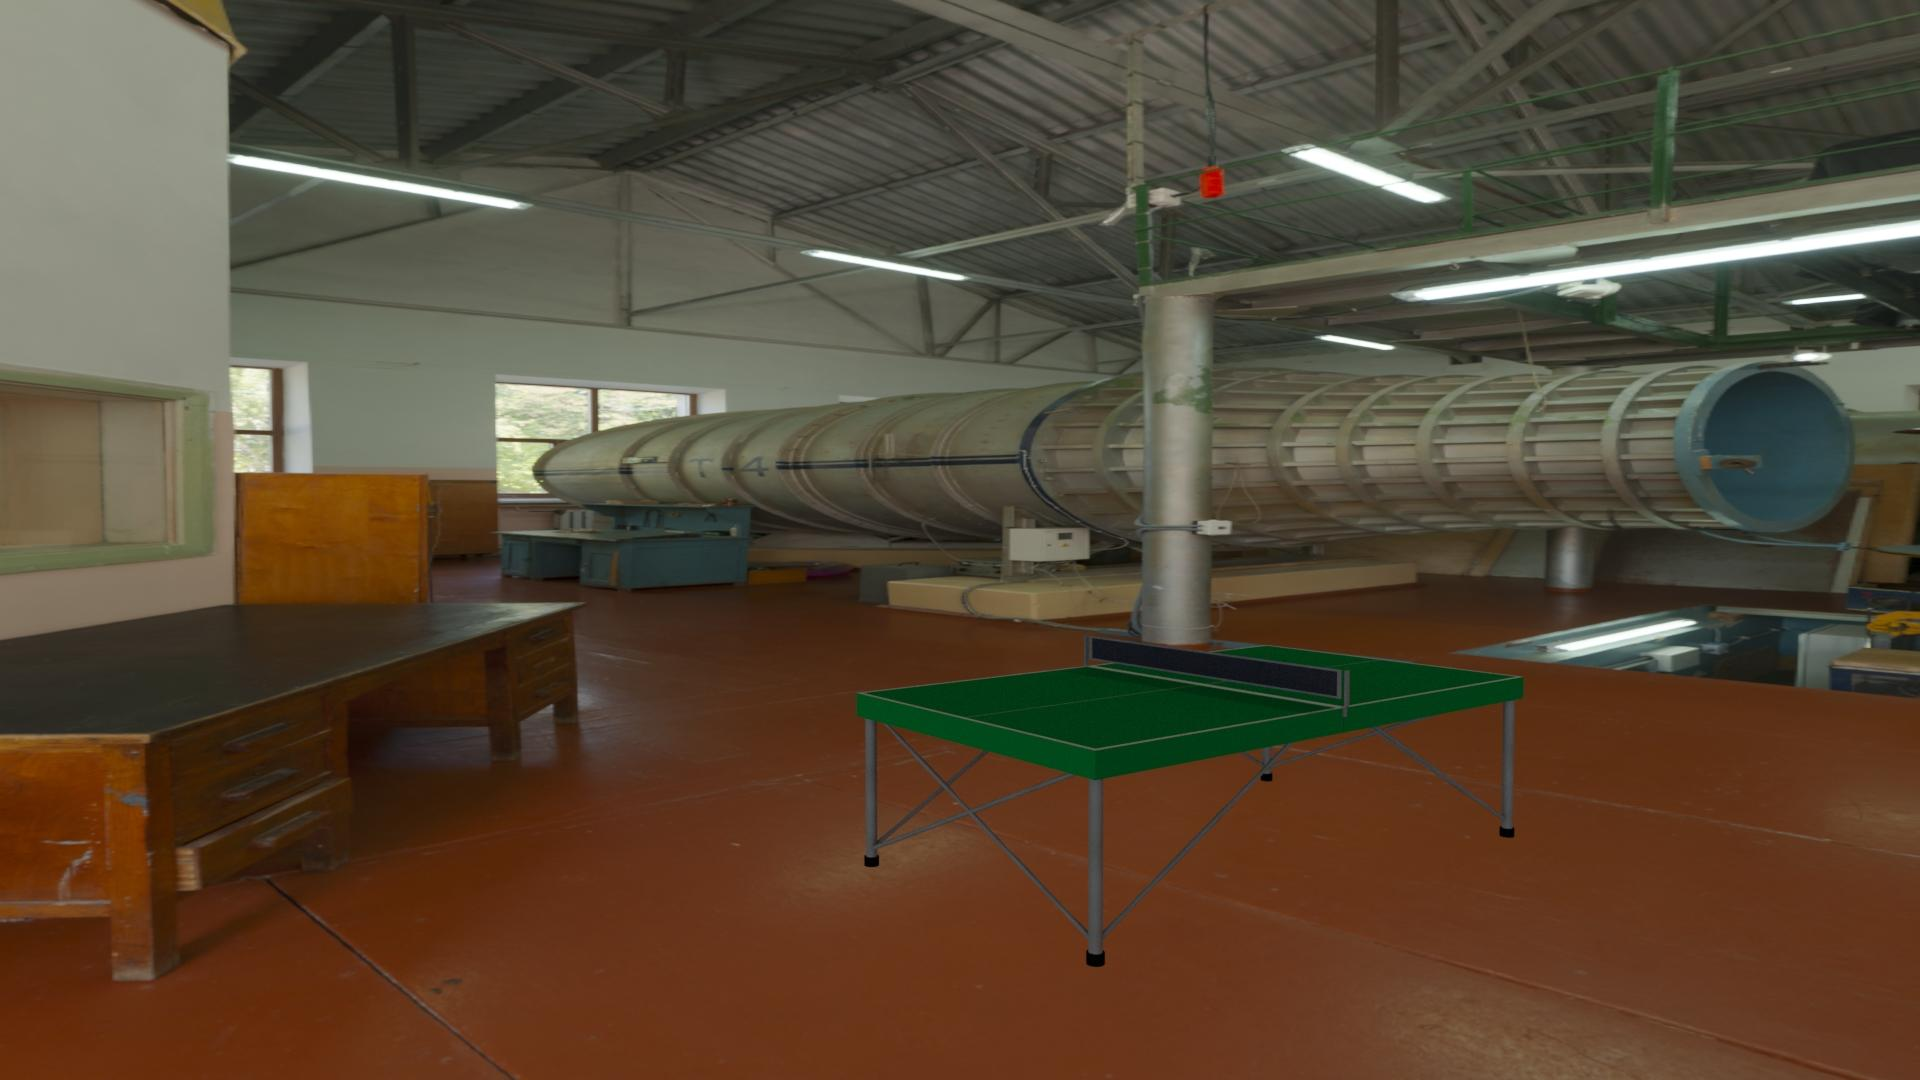table: (862, 646, 1518, 749)
